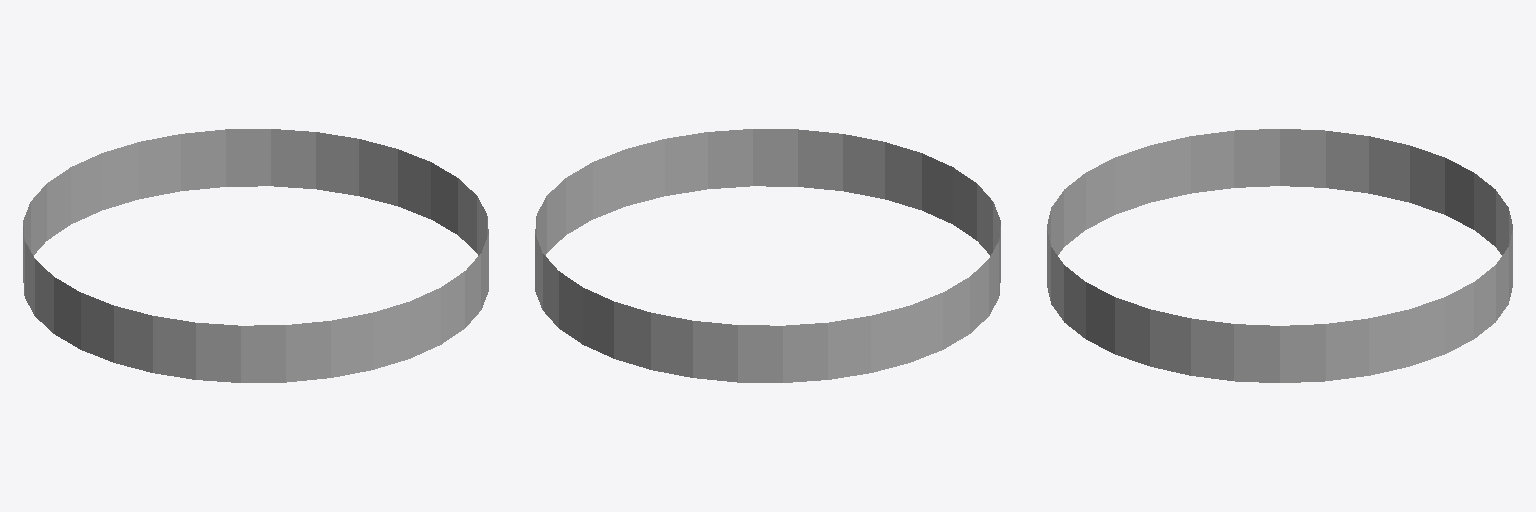
File: CompassCylinder.obj
3 renders of one model, left to right at view 1: azimuth 30°, elevation 25°; view 2: azimuth 150°, elevation 25°; view 3: azimuth 270°, elevation 25°, orthographic.
Visible parts, largest first — view 1: Cylinder; view 2: Cylinder; view 3: Cylinder.
Boxes of the visible parts, box(x1,y1,x2,y2) form: Cylinder: box(23, 129, 488, 382); Cylinder: box(535, 129, 1000, 382); Cylinder: box(1047, 129, 1512, 382).
Size of the model in its own units: 2 by 0.2717 by 2.